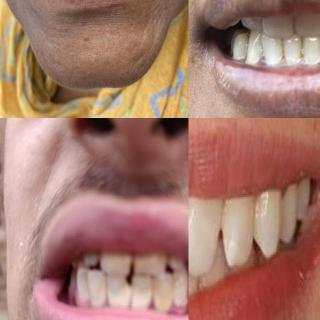calculus: (148, 278, 172, 311), (129, 276, 151, 310), (110, 283, 131, 315), (102, 251, 132, 273), (136, 255, 167, 273), (172, 276, 188, 310), (73, 272, 88, 304), (90, 282, 108, 304)
maligned: (189, 182, 223, 272), (294, 6, 320, 34), (306, 32, 320, 62)
plaque: (297, 40, 309, 64), (277, 43, 288, 64)
